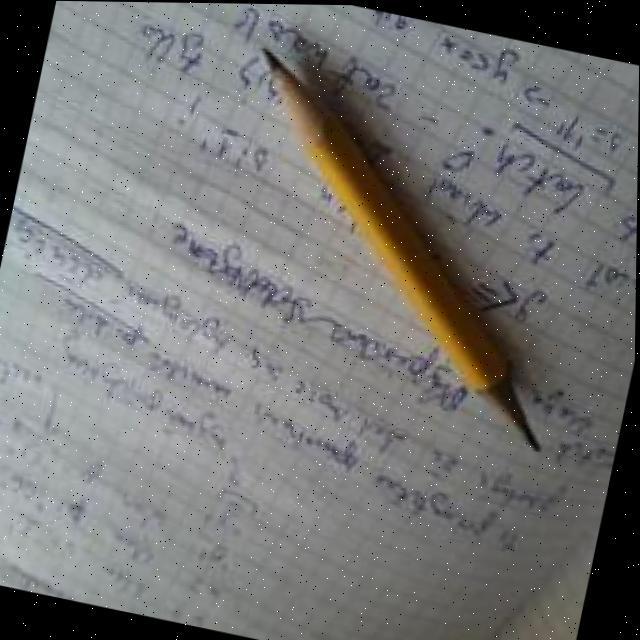pencil: (235, 3, 582, 489)
